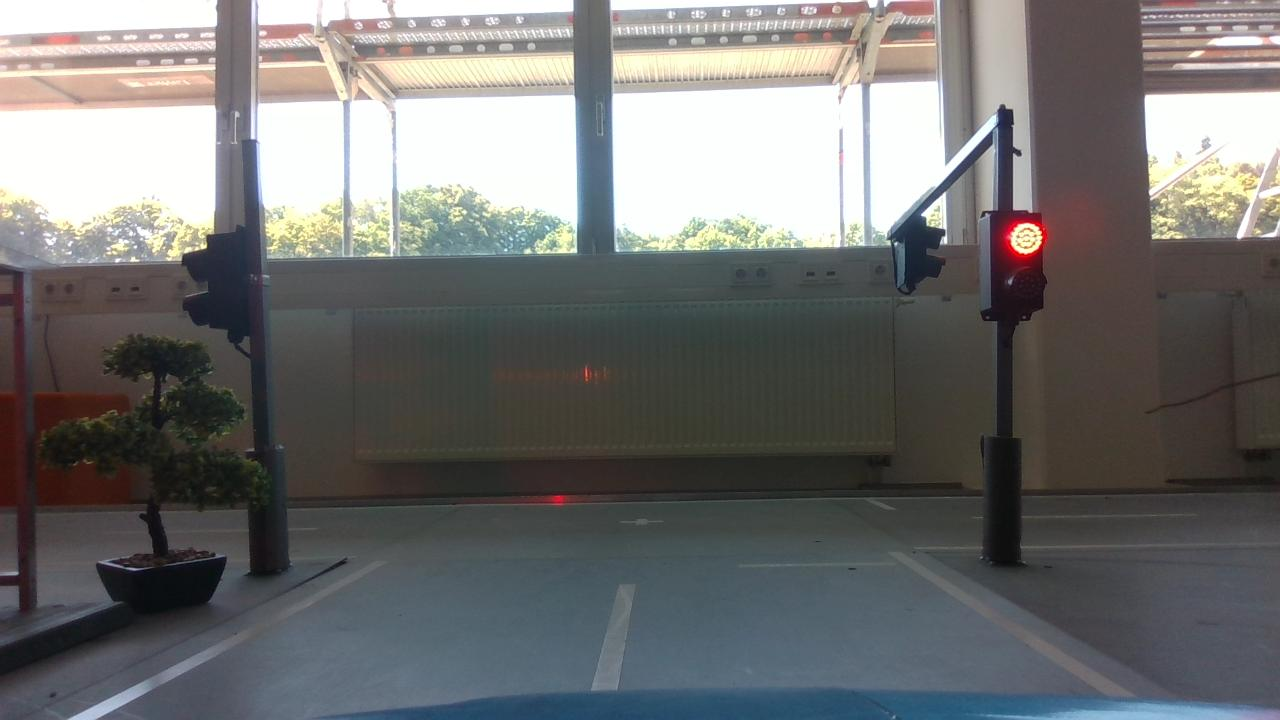traffic_light_red: (975, 204, 1070, 329)
